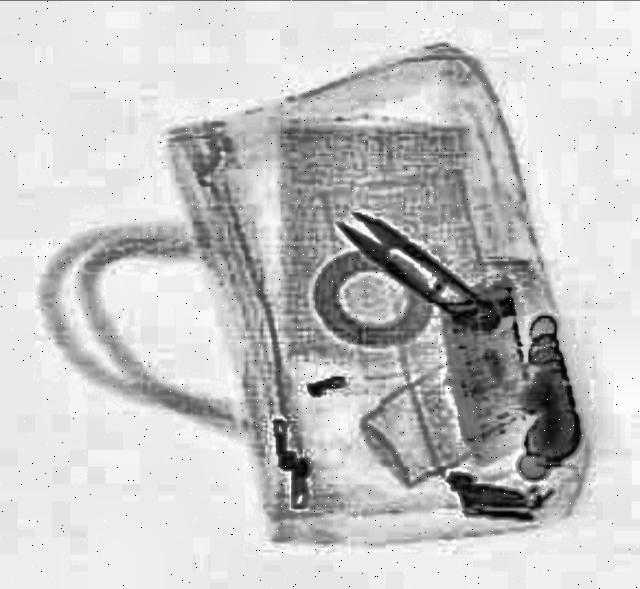Scissors: (326, 204, 508, 348)
